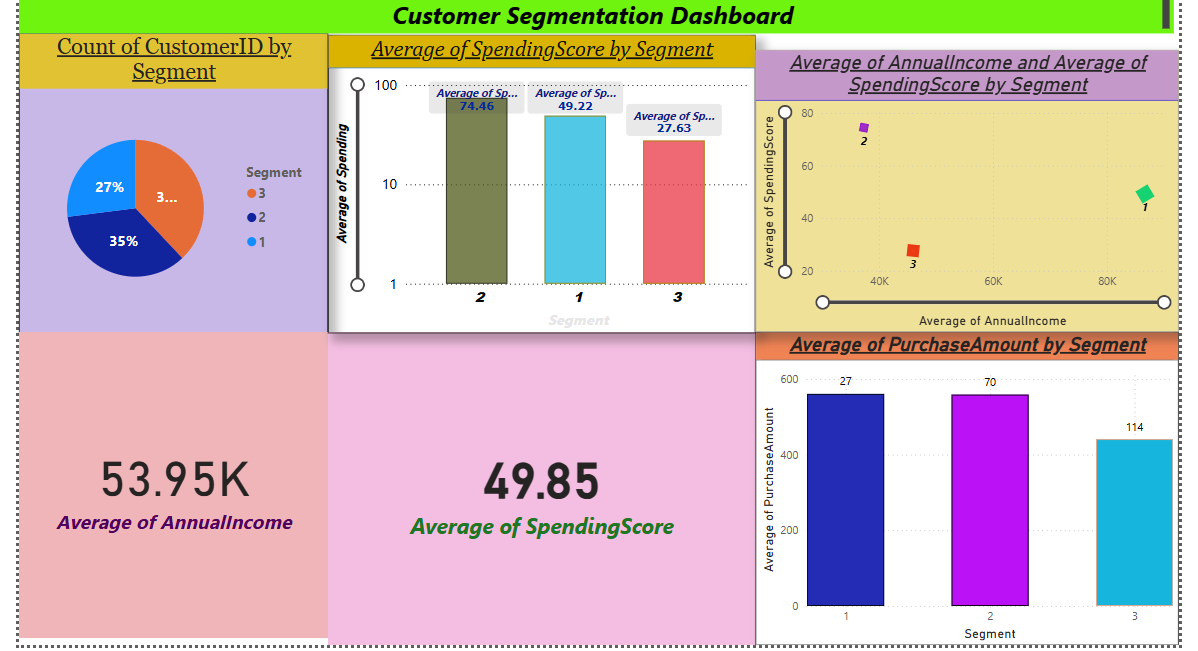

The dashboard page shown, as its layout file describes it:
{"tool":"powerbi","page":{"name":"Page 1","canvas":[1280,720],"ordinal":0},"visuals":[{"type":"pieChart","fields":{"Y":["CountNonNull(segmented_sales_data.CustomerID)"],"Category":["segmented_sales_data.Segment"]},"box":[0,44.7,341.2,331.3],"z":0},{"type":"actionButton","box":[0,0,100,40],"z":1000},{"type":"card","fields":{"Values":["Avg(segmented_sales_data.AnnualIncome)"]},"box":[0,374.4,341.2,337.9],"z":2000},{"type":"card","fields":{"Values":["Avg(segmented_sales_data.SpendingScore)"]},"box":[341.2,374.4,472.1,346.2],"z":3000},{"type":"columnChart","fields":{"Y":["Avg(segmented_sales_data.PurchaseAmount)"],"Category":["segmented_sales_data.Segment"]},"box":[813.3,374.4,467.1,346.2],"z":4000},{"type":"clusteredColumnChart","fields":{"Category":["segmented_sales_data.Segment"],"Y":["Avg(segmented_sales_data.SpendingScore)"]},"box":[341.2,46.4,472.1,329.6],"z":5000},{"type":"scatterChart","fields":{"X":["Avg(segmented_sales_data.AnnualIncome)"],"Y":["Avg(segmented_sales_data.SpendingScore)"],"Category":["segmented_sales_data.Segment"]},"box":[813.3,62.9,467.1,311.4],"z":6000},{"type":"textbox","box":[0,0,1275.5,44.7],"z":7000}]}

Visuals, with their boxes on the page's 1280x720 design canvas (x1, y1, x2, y2). These are canvas units, not pixel positions in the 1198x651 screenshot, which may show the page scaled, cropped or inside an application window:
pieChart - CountNonNull(segmented_sales_data.CustomerID) x segmented_sales_data.Segment: [x1=0, y1=45, x2=341, y2=376]
actionButton: [x1=0, y1=0, x2=100, y2=40]
card - Avg(segmented_sales_data.AnnualIncome): [x1=0, y1=374, x2=341, y2=712]
card - Avg(segmented_sales_data.SpendingScore): [x1=341, y1=374, x2=813, y2=721]
columnChart - Avg(segmented_sales_data.PurchaseAmount) x segmented_sales_data.Segment: [x1=813, y1=374, x2=1280, y2=721]
clusteredColumnChart - segmented_sales_data.Segment x Avg(segmented_sales_data.SpendingScore): [x1=341, y1=46, x2=813, y2=376]
scatterChart - Avg(segmented_sales_data.AnnualIncome) x Avg(segmented_sales_data.SpendingScore): [x1=813, y1=63, x2=1280, y2=374]
textbox: [x1=0, y1=0, x2=1276, y2=45]
